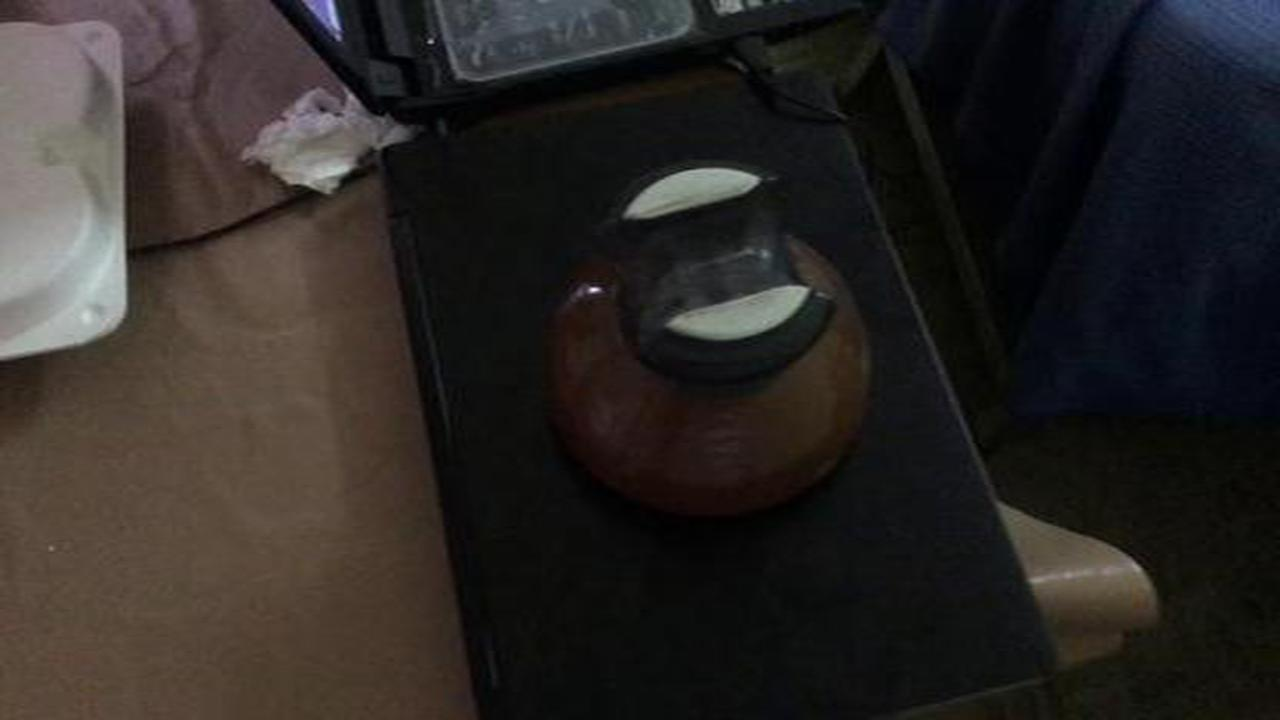insulator_pin: (530, 142, 908, 541)
